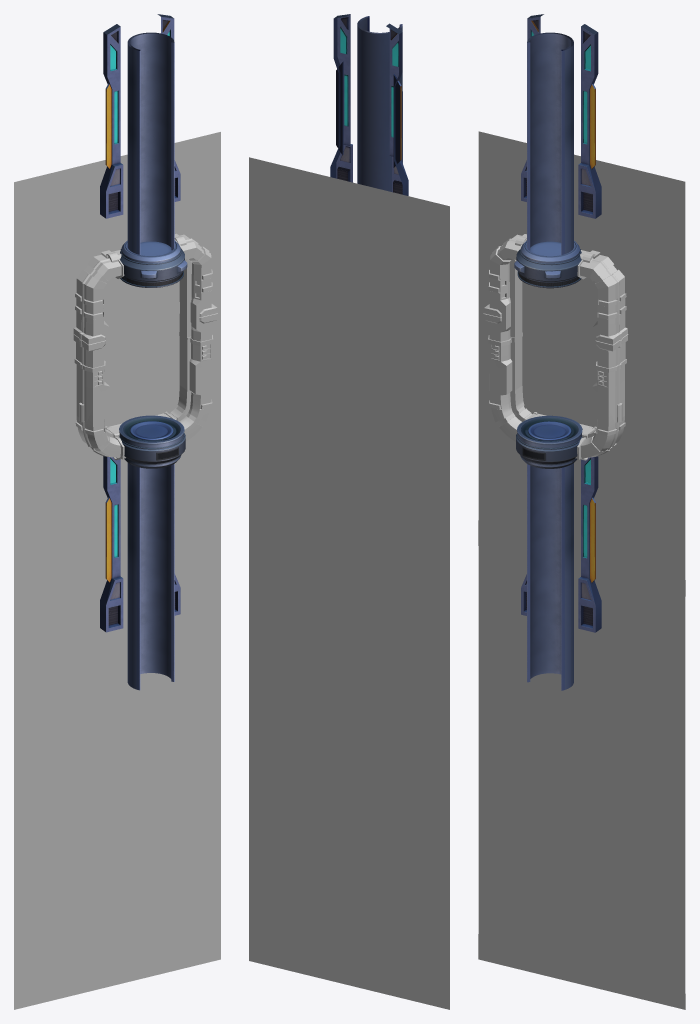
File: 2048_STAGE_SCIFI.fbx
3 renders of one model, left to right at view 1: azimuth 30°, elevation 25°; view 2: azimuth 150°, elevation 25°; view 3: azimuth 330°, elevation 25°, orthographic. The views are drawn at different scales.
Visible parts, largest first — view 1: BG02, BG, TUBE02, TUBE01, polySurface282, TELE_BOP, TELE_TOP; view 2: BG, BG02, TUBE02; view 3: BG02, BG, TUBE02, TUBE01, polySurface282, TELE_BOP, TELE_TOP.
Boxes of the visible parts, x1=… form: BG02: x1=14, y1=546, x2=220, y2=1009; BG: x1=14, y1=132, x2=220, y2=596; TUBE02: x1=100, y1=14, x2=180, y2=254; TUBE01: x1=100, y1=456, x2=180, y2=690; polySurface282: x1=73, y1=233, x2=217, y2=460; TELE_BOP: x1=119, y1=415, x2=185, y2=468; TELE_TOP: x1=120, y1=240, x2=187, y2=287; BG: x1=249, y1=157, x2=449, y2=608; BG02: x1=249, y1=559, x2=449, y2=1009; TUBE02: x1=330, y1=14, x2=408, y2=195; BG02: x1=478, y1=545, x2=685, y2=1009; BG: x1=478, y1=131, x2=685, y2=596; TUBE02: x1=521, y1=14, x2=601, y2=254; TUBE01: x1=521, y1=456, x2=601, y2=690; polySurface282: x1=483, y1=234, x2=628, y2=460; TELE_BOP: x1=516, y1=415, x2=582, y2=468; TELE_TOP: x1=514, y1=240, x2=581, y2=288.
Bounding box in the file's own units: 14.23 × 64.34 × 5.99.
